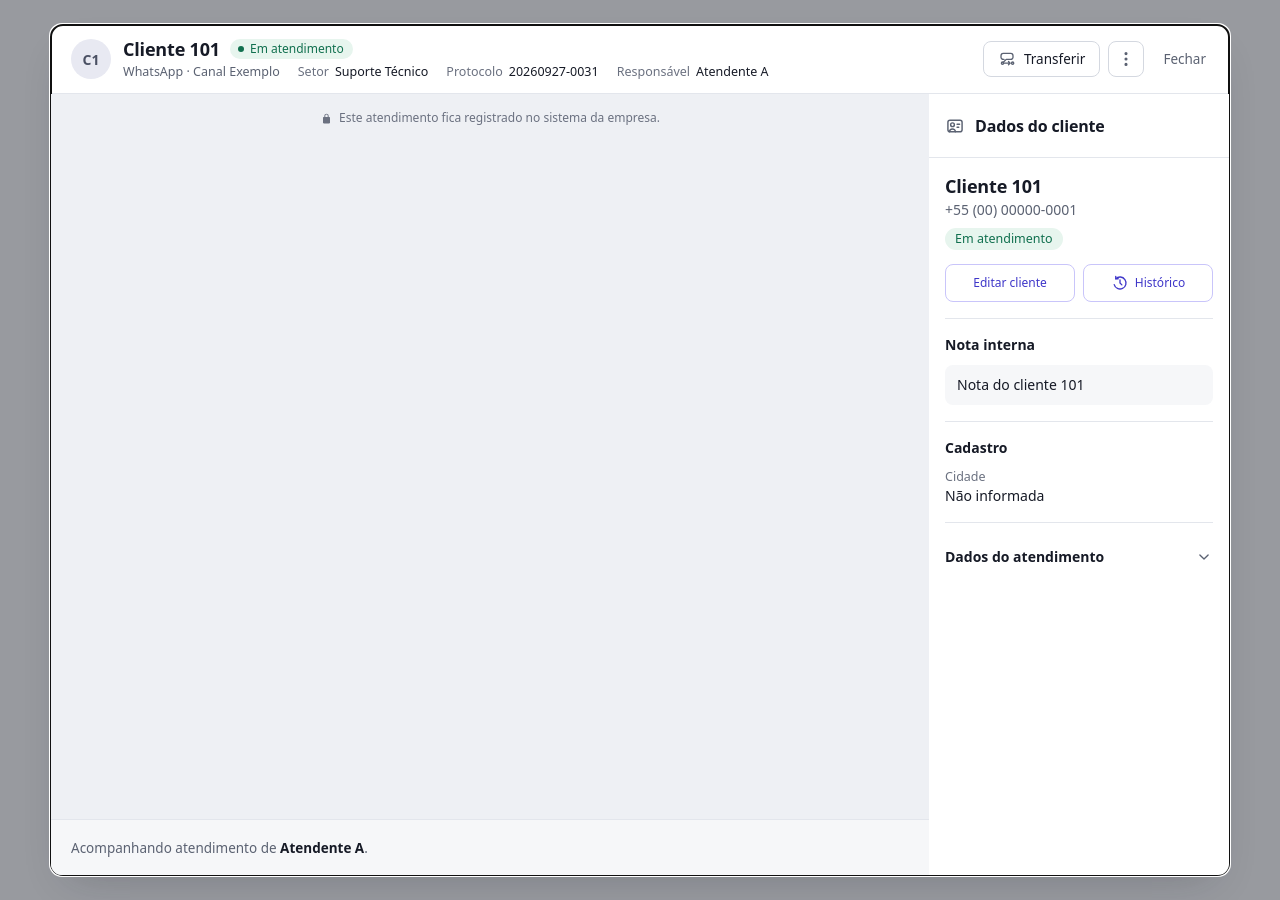
Test: revisão: compositor, menu e foco dentro do popup › Tab dentro do menu fecha o menu e segue para o próximo controle
Click the button named "Mais opções" at (1126, 59), box [1108, 41, 1144, 77]
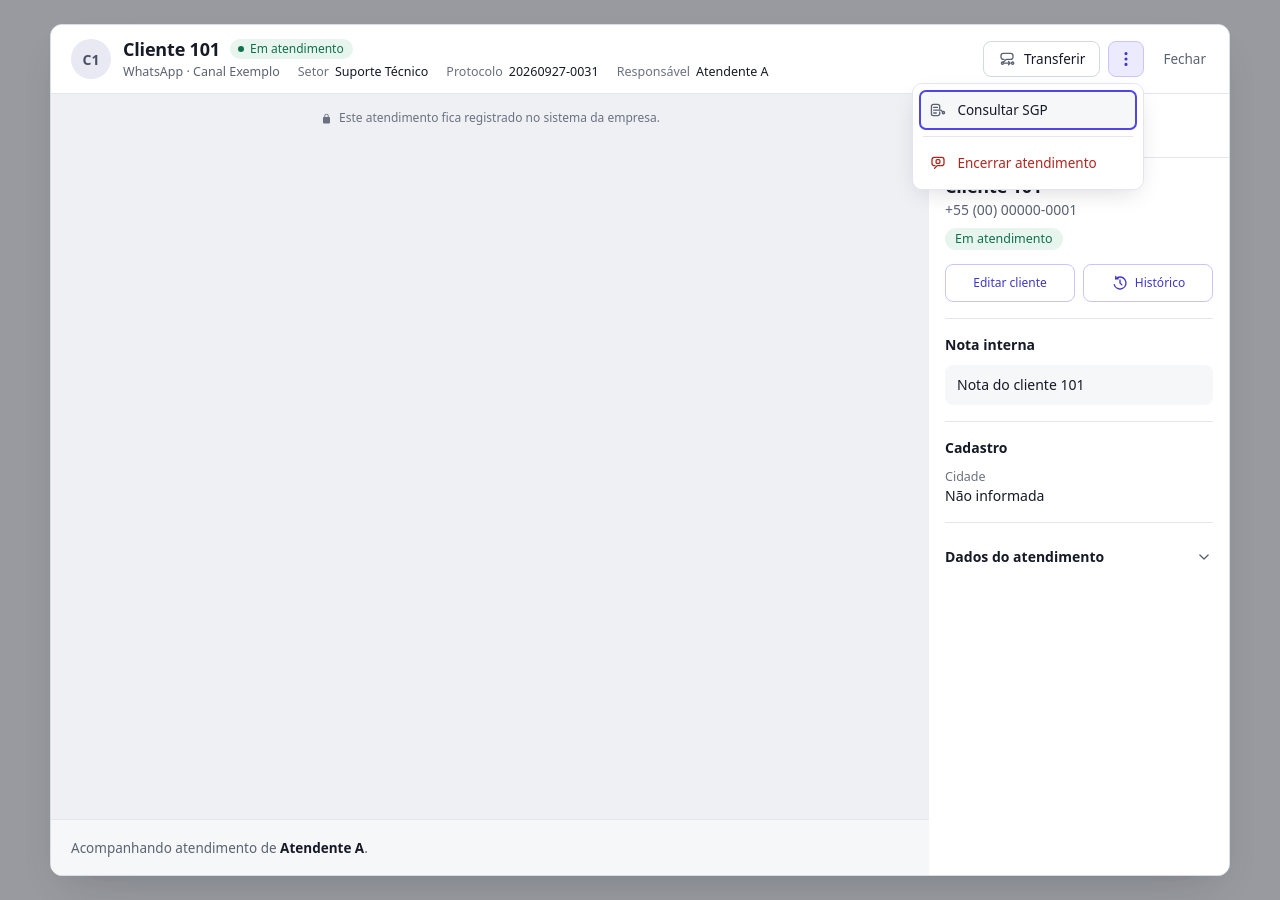
Press Tab
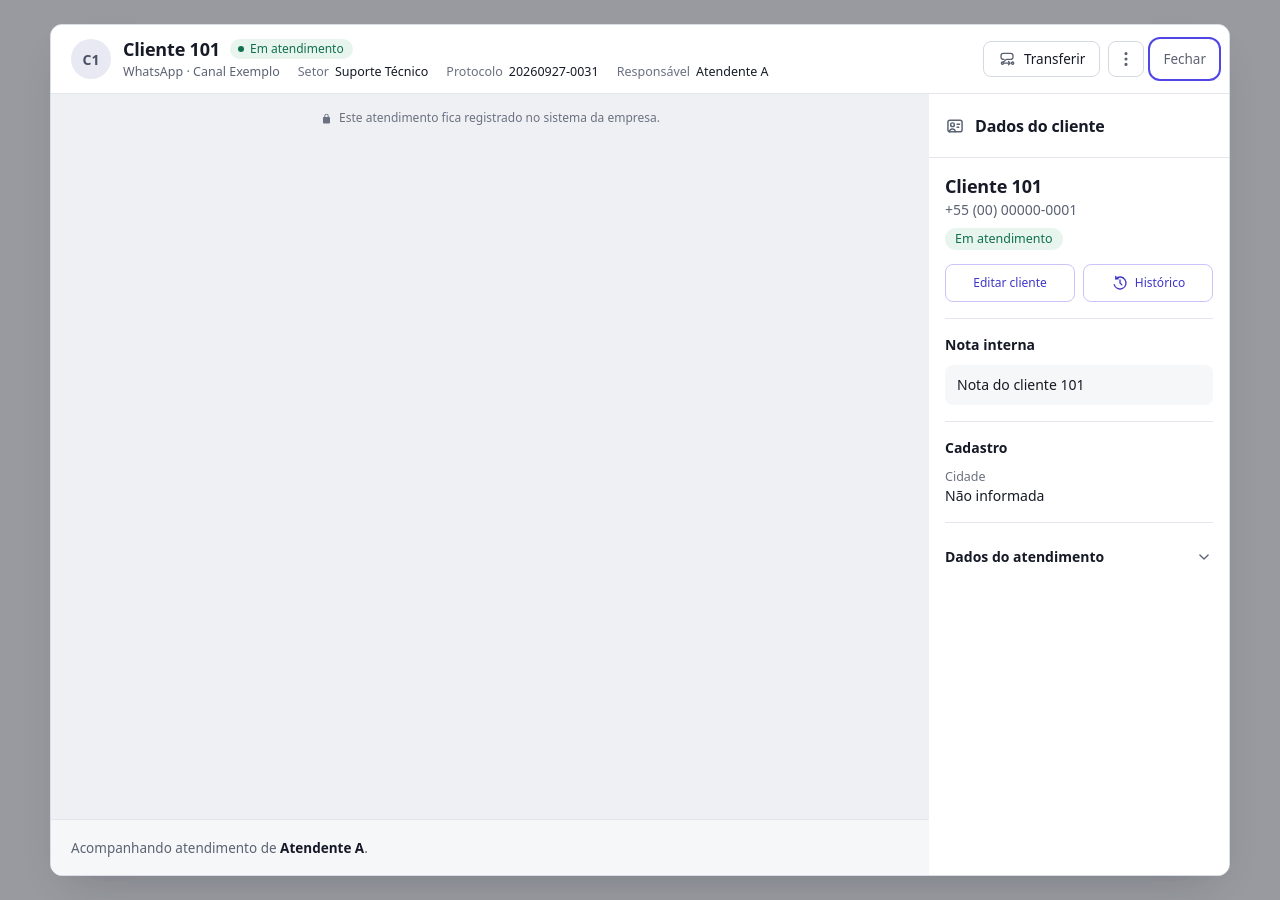
Check: the menu is gone
